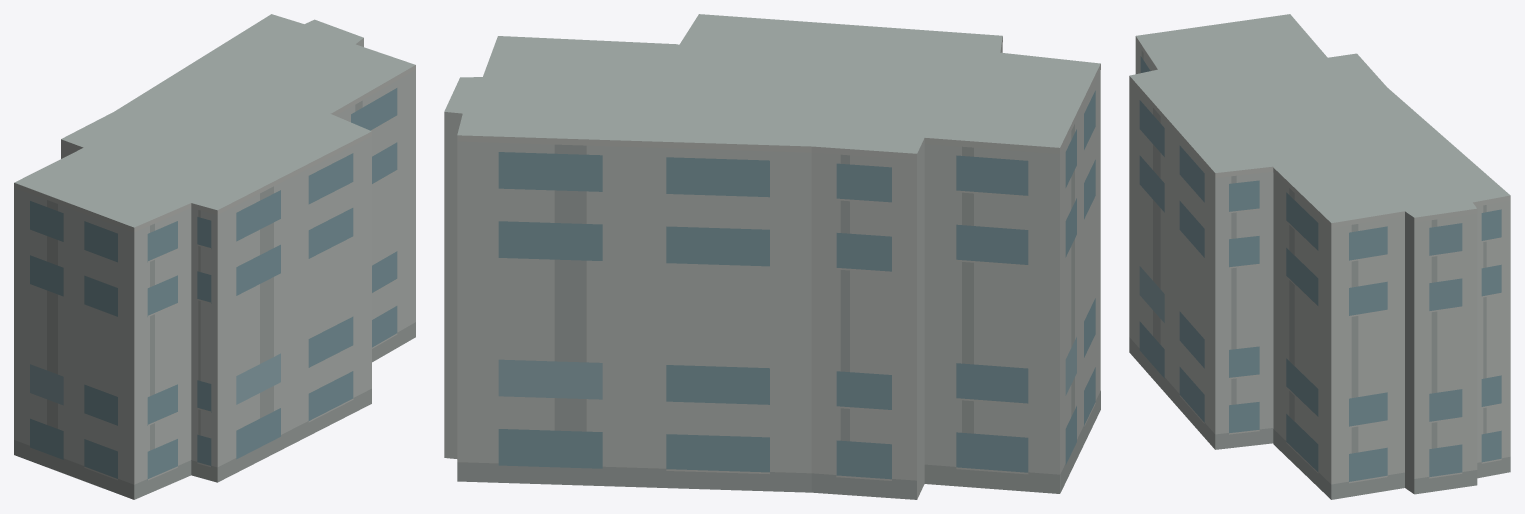
The model's file is survey-upis-32855863.glb.
3 views of the same model, side by side, from view 1: azimuth 30°, elevation 25°; view 2: azimuth 150°, elevation 25°; view 3: azimuth 270°, elevation 25° (orthographic). The views are drawn at different scales.
Parts seen in each view (by area): view 1: survey-upis-32855863.tmp; view 2: survey-upis-32855863.tmp; view 3: survey-upis-32855863.tmp.
Part boxes in pixels (bbox=[...]): survey-upis-32855863.tmp: bbox=[14, 14, 415, 499]; survey-upis-32855863.tmp: bbox=[444, 14, 1100, 499]; survey-upis-32855863.tmp: bbox=[1129, 14, 1510, 499].
Bounding box in the file's own units: 22.07 × 13.6 × 16.99.
